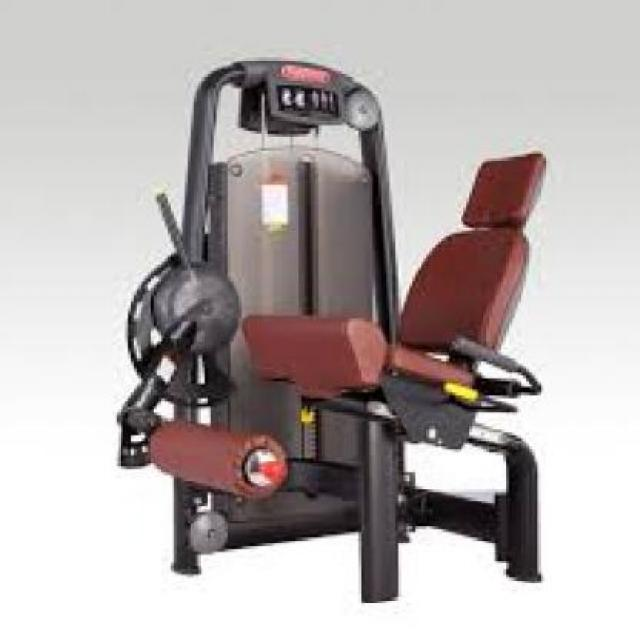leg extension: (111, 38, 569, 612)
